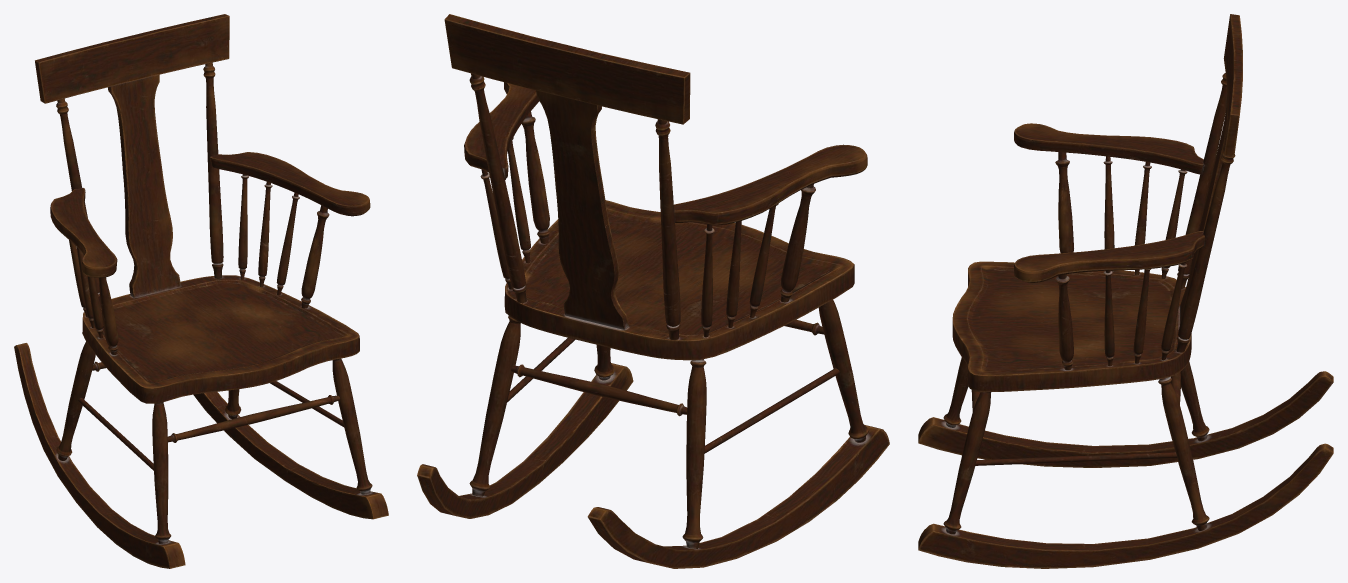
File: Rockingchair_01.glb
3 views of the same model, side by side, from view 1: azimuth 30°, elevation 25°; view 2: azimuth 150°, elevation 25°; view 3: azimuth 270°, elevation 25° (orthographic). The views are drawn at different scales.
Parts seen in each view (by area): view 1: Rockingchair_01; view 2: Rockingchair_01; view 3: Rockingchair_01.
Boxes of the visible parts, box(x1,y1,x2,y2) form: Rockingchair_01: box(14, 14, 388, 568); Rockingchair_01: box(417, 14, 889, 568); Rockingchair_01: box(918, 14, 1333, 568).
Bounding box in the file's own units: 0.7081 × 0.9949 × 0.8335.
1 material, 1 textured.
